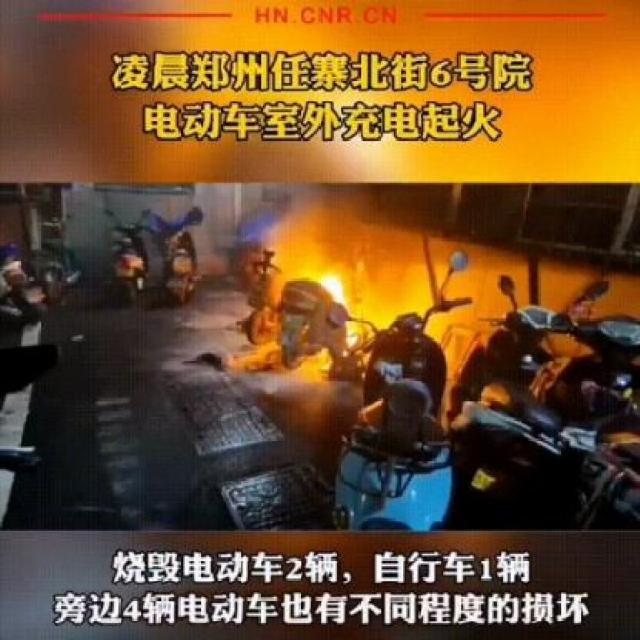Fire: (320, 268, 346, 302), (348, 318, 358, 352)
Smoke: (269, 188, 342, 278)
